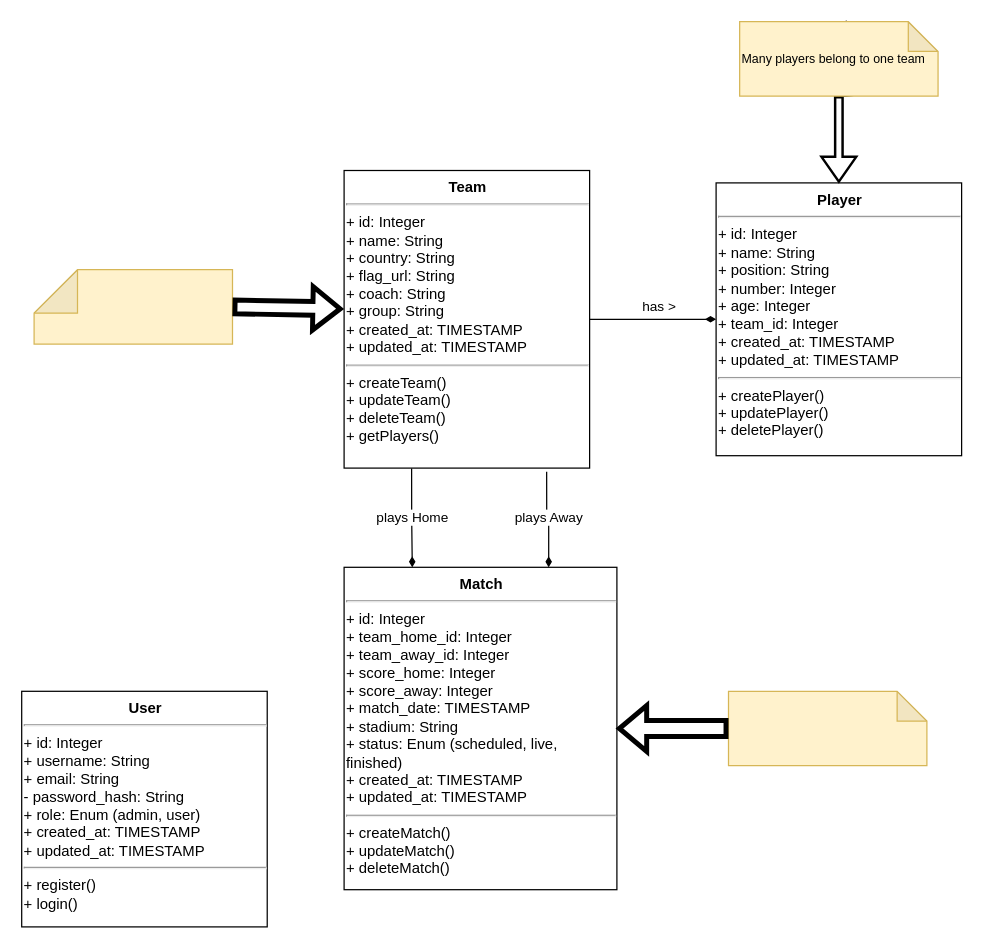
Some shapes in this 983 by 952 pixel diagram are drawn without their labels. Each missing label, with the box of its shape:
One match involves two teams (home & away): (727, 690, 927, 766)
One team can have many players: (33, 268, 232, 344)
